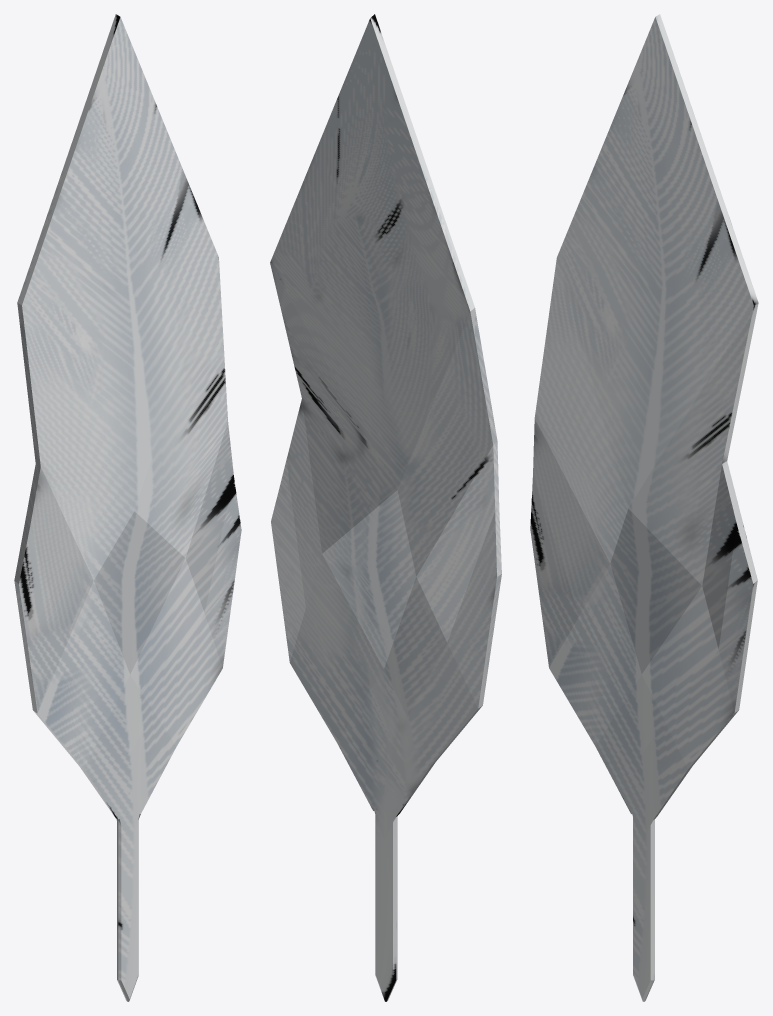
File: Feather.fbx
3 renders of one model, left to right at view 1: azimuth 30°, elevation 25°; view 2: azimuth 150°, elevation 25°; view 3: azimuth 330°, elevation 25°, orthographic.
Visible parts, largest first — view 1: Plane; view 2: Plane; view 3: Plane.
Part boxes in pixels (<box>): Plane: <box>14,14,241,1001</box>; Plane: <box>270,14,501,1001</box>; Plane: <box>530,14,758,1001</box>.
Bounding box in the file's own units: 65.81 × 276 × 12.86.
